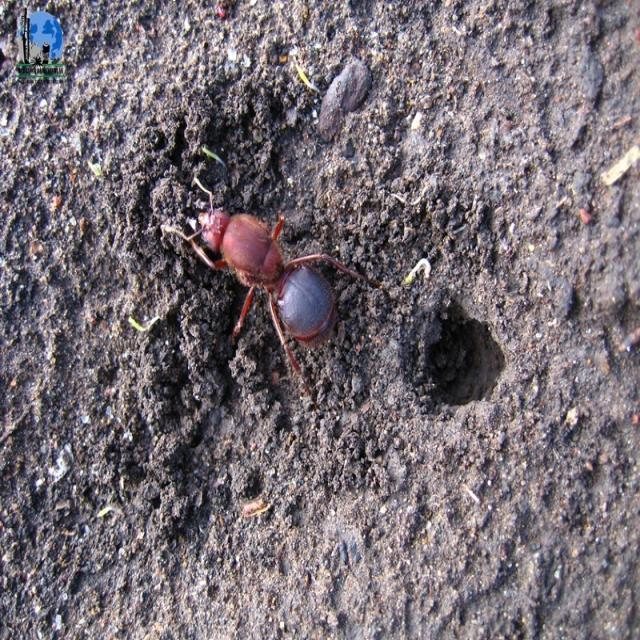Alive-Female-Dealate: (165, 176, 382, 397)
